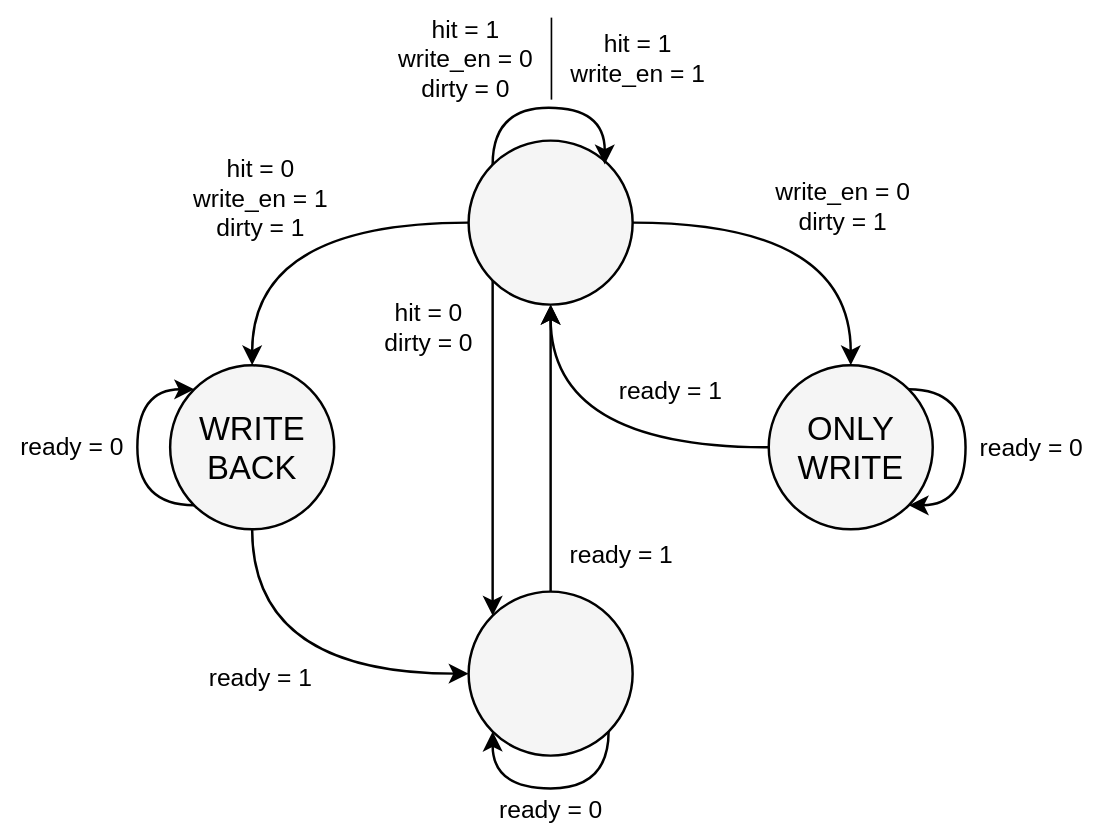
Some shapes in this 1102 by 837 pixel diagram are drawn without their labels. Here are the shapes that lost their labels. From the top down, the box of each, then its label:
(467, 139, 633, 305): INITIAL
(467, 590, 633, 756): READ MEM
